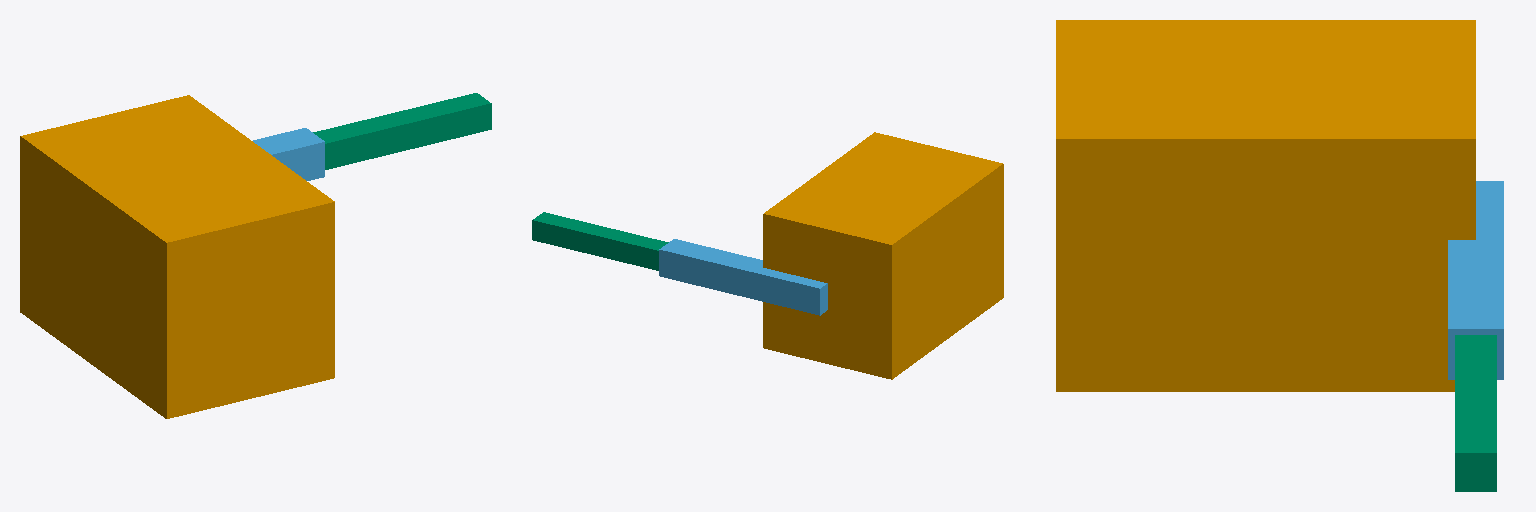
robot.urdf — mm_minimal:
<?xml version="1.0"?>
<robot name="mm_minimal">
  <link name="base_link">
    <visual>
      <origin xyz="0 0 0" rpy="0 0 0"/>
      <geometry>
        <box size="0.4 0.6 0.4"/>
      </geometry>
    </visual>
    <collision>
      <origin xyz="0 0 0" rpy="0 0 0"/>
      <geometry>
        <box size="0.4 0.6 0.4"/>
      </geometry>
    </collision>
  </link>

  <link name="upper_arm_link">
    <visual>
      <origin xyz="0.25 0 0" rpy="0 0 0"/>
      <geometry>
        <box size="0.5 0.08 0.08"/>
      </geometry>
    </visual>
    <collision>
      <origin xyz="0.25 0 0" rpy="0 0 0"/>
      <geometry>
        <box size="0.5 0.08 0.08"/>
      </geometry>
    </collision>
  </link>

  <link name="forearm_link">
    <visual>
      <origin xyz="0.2 0 0" rpy="0 0 0"/>
      <geometry>
        <box size="0.4 0.06 0.06"/>
      </geometry>
    </visual>
    <collision>
      <origin xyz="0.2 0 0" rpy="0 0 0"/>
      <geometry>
        <box size="0.4 0.06 0.06"/>
      </geometry>
    </collision>
  </link>

  <joint name="shoulder_joint" type="revolute">
    <parent link="base_link"/>
    <child link="upper_arm_link"/>
    <origin xyz="0 0.3 0" rpy="0 0 0"/>
    <axis xyz="0 1 0"/>
  </joint>

  <joint name="elbow_joint" type="revolute">
    <parent link="upper_arm_link"/>
    <child link="forearm_link"/>
    <origin xyz="0.5 0 0" rpy="0 0 0"/>
    <axis xyz="0 1 0"/>
  </joint>
</robot>

--- Render facts (derived) ---
3 views of the same robot in one strip: view 1: azimuth 30°, elevation 25°; view 2: azimuth 150°, elevation 25°; view 3: azimuth 270°, elevation 25° (orthographic).
Robot: mm_minimal — 3 links, 2 joints (2 revolute); root link base_link; default pose: every joint at zero.
Links seen in each view (by area): view 1: base_link, forearm_link, upper_arm_link; view 2: base_link, upper_arm_link, forearm_link; view 3: base_link, upper_arm_link, forearm_link.
Link boxes in pixels (box(x1,y1,x2,y2)): base_link: box(20, 95, 334, 418); forearm_link: box(313, 93, 491, 169); upper_arm_link: box(253, 128, 324, 180); base_link: box(763, 132, 1003, 379); upper_arm_link: box(659, 239, 827, 315); forearm_link: box(532, 212, 668, 270); base_link: box(1056, 20, 1475, 391); upper_arm_link: box(1448, 181, 1503, 379); forearm_link: box(1455, 335, 1496, 491).
Bounding box of the posed robot: 1.1 × 0.64 × 0.4 m (x, y, z).
Geometry: primitives only (box / cylinder / sphere), no mesh files.
